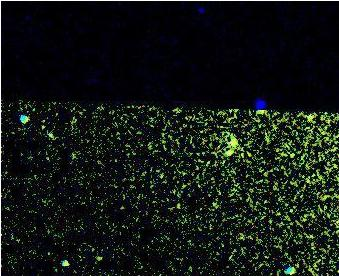star: (218, 136, 248, 166)
